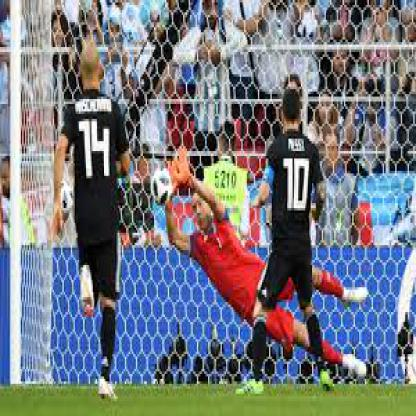goal: (136, 98, 240, 261)
